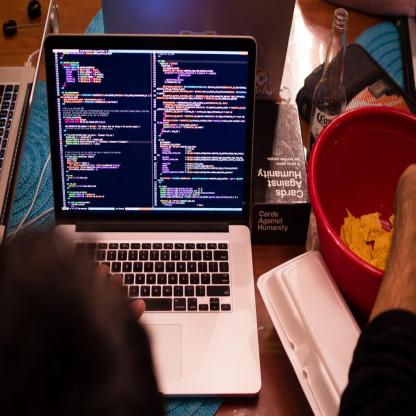board: (44, 39, 256, 381), (1, 0, 52, 247), (308, 5, 348, 162)
